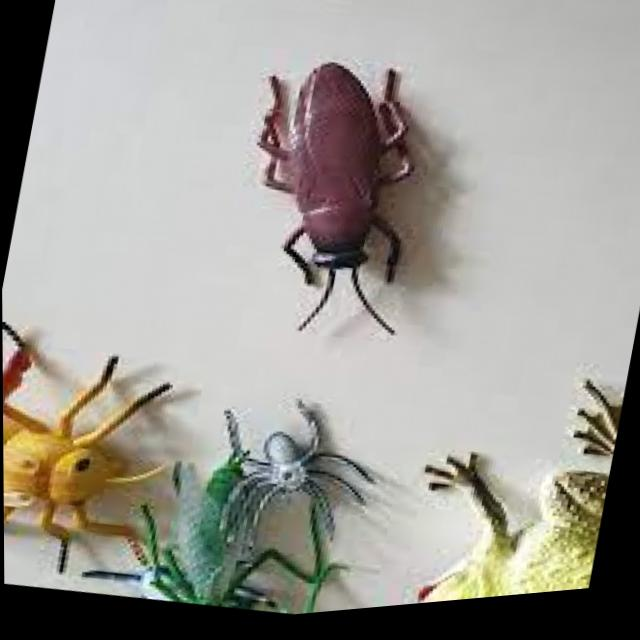Cockroach: (184, 33, 488, 392)
